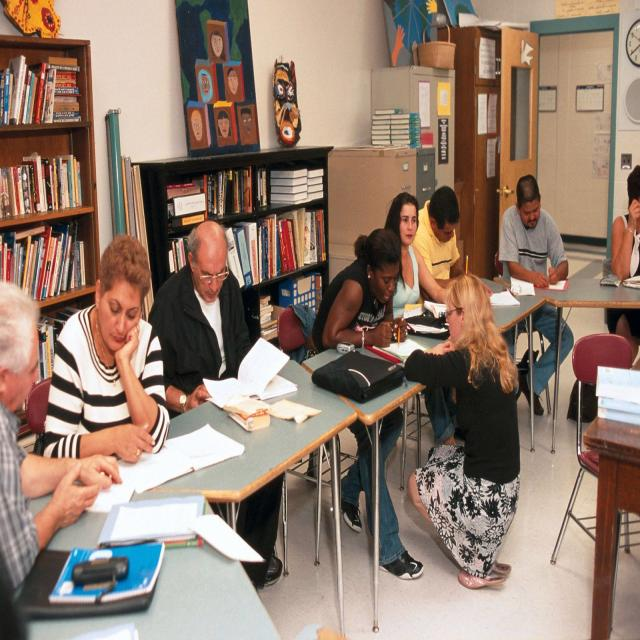adult: (313, 224, 425, 582), (0, 276, 121, 603), (405, 275, 520, 591), (43, 234, 170, 460), (147, 220, 255, 421), (497, 175, 572, 415), (605, 160, 640, 386), (412, 180, 468, 294), (390, 191, 429, 319)
